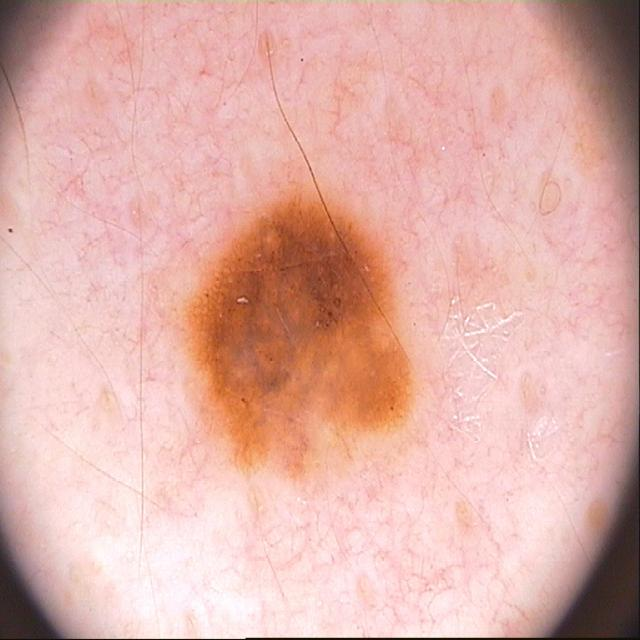Skin-Cancer Nevus: (66, 0, 597, 527)
